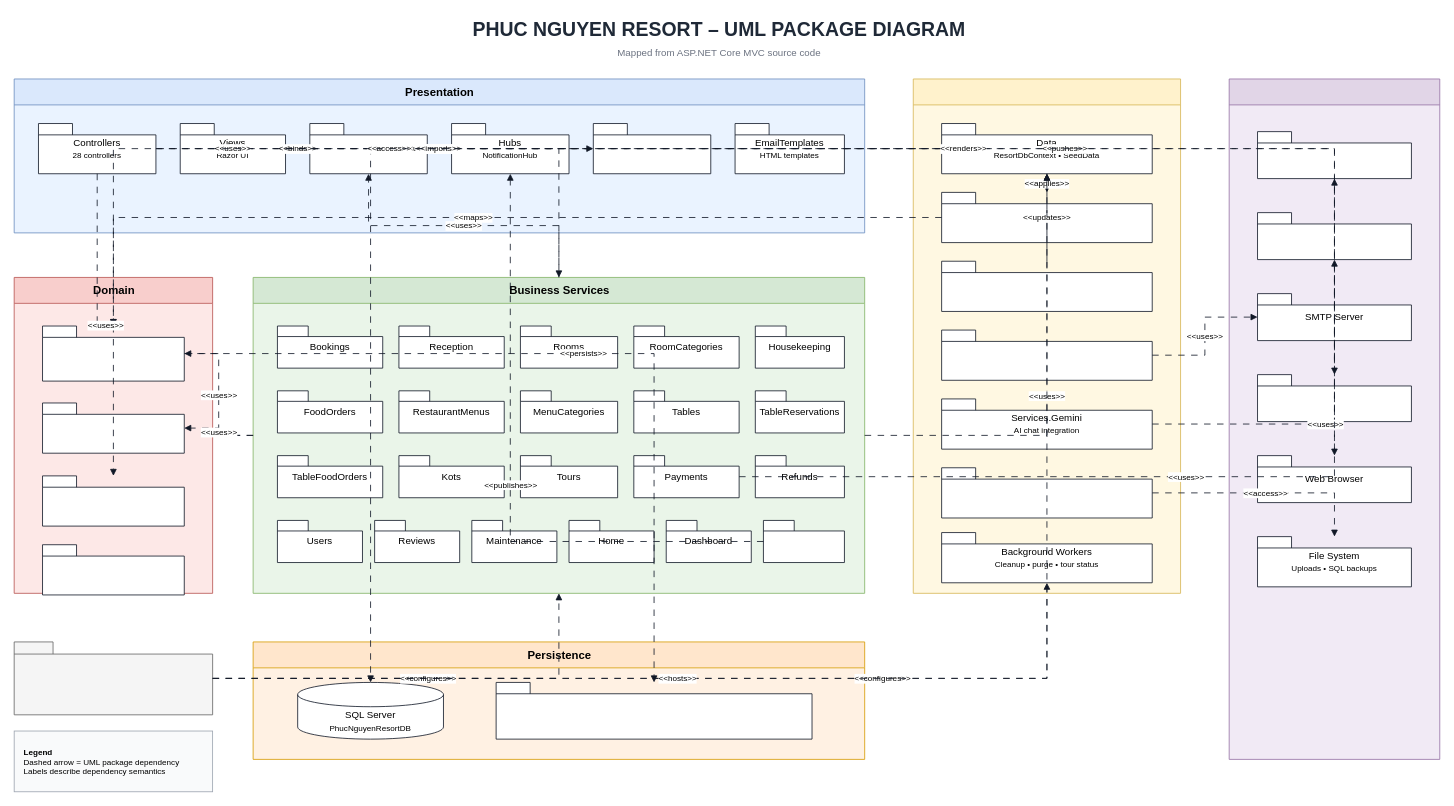
This 1454x806 diagram has some shape labels left out. Each missing label, with the box of its shape:
Application Bootstrap Program.cs • Dependency Injection • Routing: (13, 641, 213, 715)
Configurations 26 EF entity mappings: (941, 192, 1152, 243)
Constants AppRoles: (42, 475, 184, 526)
Entity Tables Bookings • Rooms • Tours • Users Restaurant • Payments • Folios: (495, 682, 812, 739)
Enums 15 enumerations: (42, 402, 184, 453)
External Systems: (1228, 78, 1440, 759)
Google Gemini API: (1257, 212, 1411, 260)
Helpers Password • VNPay: (42, 544, 184, 595)
Infrastructure & Integrations: (912, 78, 1181, 593)
Migrations Schema evolution: (941, 260, 1152, 311)
Models 31 domain entities: (42, 325, 184, 381)
Notifications: (763, 520, 844, 563)
Services.DatabaseBackups SQL backup operations: (941, 467, 1152, 518)
Services.Email EmailSender • OTP cleanup: (941, 329, 1152, 380)
SignalR Clients: (1257, 374, 1411, 422)
ViewModels 67 contracts: (309, 123, 427, 174)
VNPay Gateway: (1257, 131, 1411, 179)
wwwroot CSS • JS • Assets: (593, 123, 711, 174)
